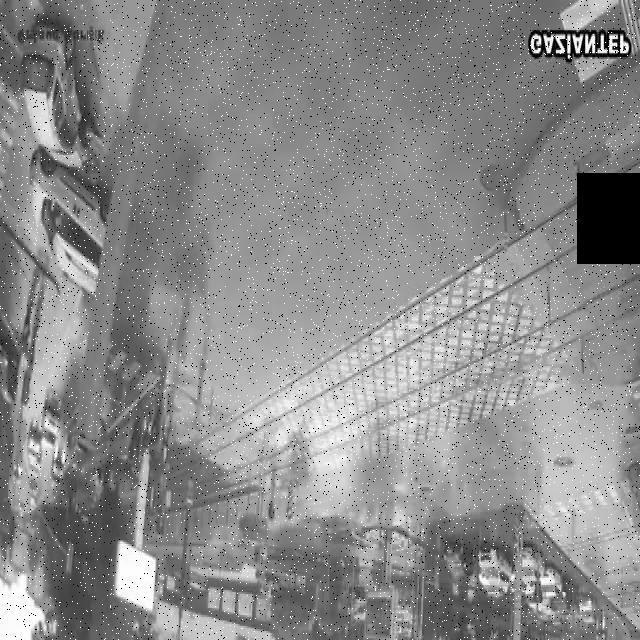vehicle: (0, 9, 119, 180)
